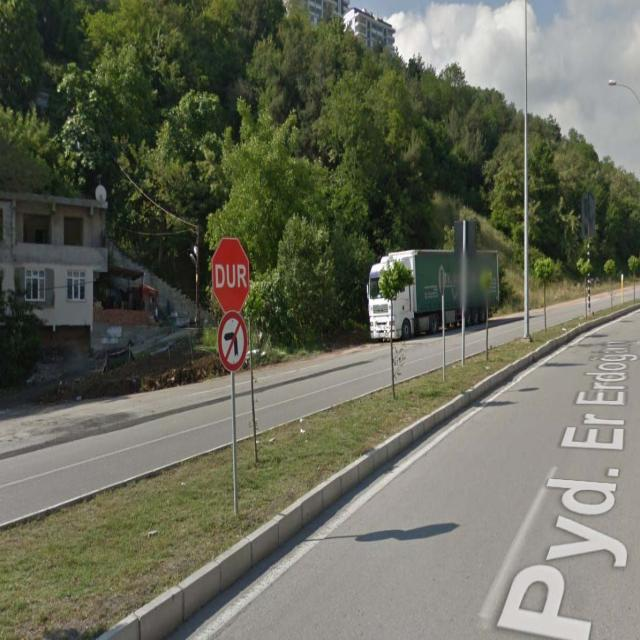dur: (212, 237, 250, 315)
soladonulmez: (218, 311, 248, 371)
